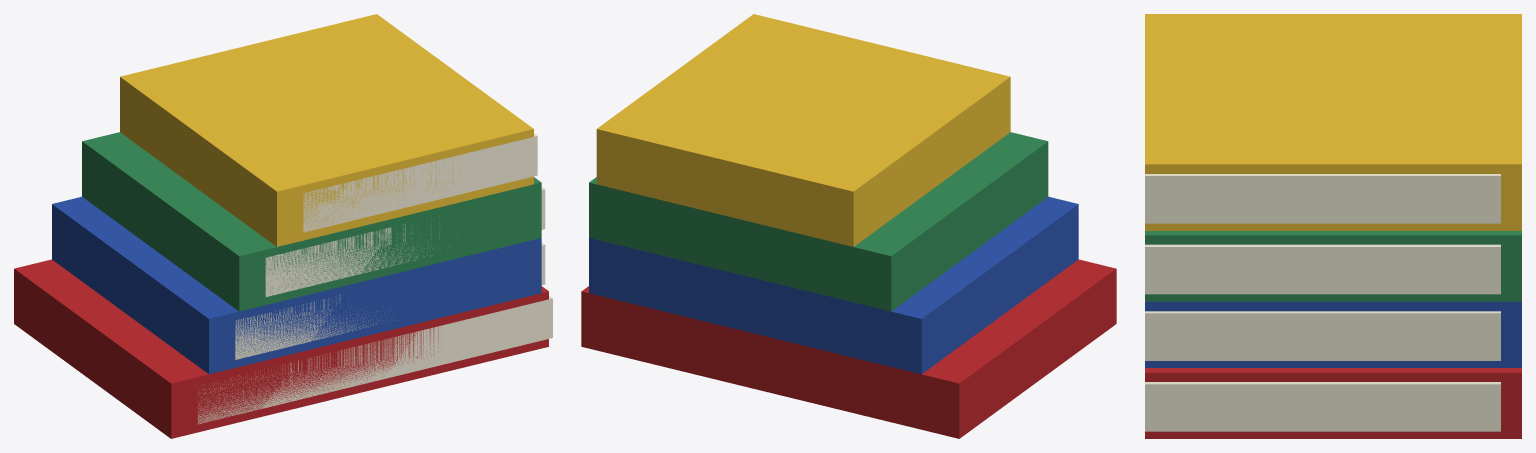
The model's file is book_stack.fbx.
3 renders of one model, left to right at view 1: azimuth 30°, elevation 25°; view 2: azimuth 150°, elevation 25°; view 3: azimuth 270°, elevation 25°, orthographic. The views are drawn at different scales.
Visible parts, largest first — view 1: book_stack; view 2: book_stack; view 3: book_stack.
Part boxes in pixels (x1,y1,x2,y2): book_stack: (14,14,552,438); book_stack: (581,14,1116,438); book_stack: (1145,14,1521,438).
Size of the model in its own units: 0.505 by 0.28 by 0.36.
